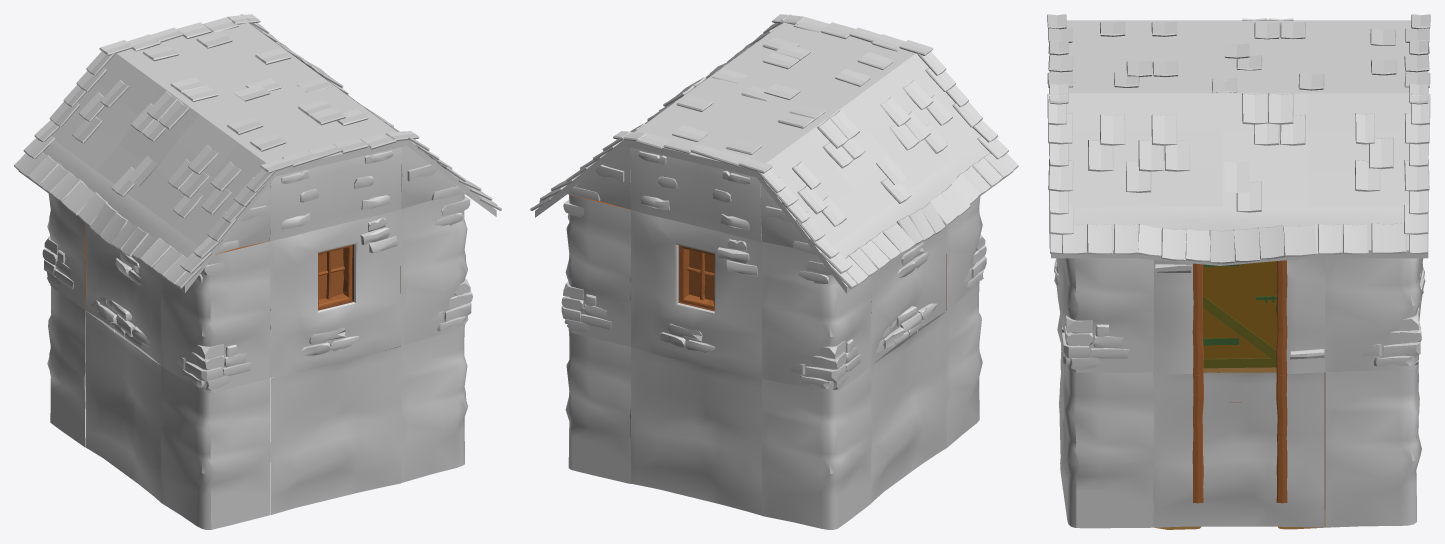
File: Modular_house_5.fbx
The picture shows the model from 3 angles, left to right: view 1: azimuth 30°, elevation 25°; view 2: azimuth 150°, elevation 25°; view 3: azimuth 270°, elevation 25°; orthographic projection. The views are drawn at different scales.
Visible parts, largest first — view 1: roof.055, roof.053, wall.072, wall.085, wall.077, wall.078, wall.086, Roof_long_strip_low.024, wall.081, wall.074, wall.083, wall.080 (+15 smaller); view 2: roof.055, roof.053, wall.082, wall.083, wall.075, wall.076, wall.086, Roof_long_strip_low.024, wall.079, wall.073, wall.080, wall.085 (+15 smaller); view 3: roof.057, roof.053, wall.084, Roof_long_strip_low.026, wall.079, wall.081, wall.073, wall.071, wall.074, Windows_doors.209, bricks.059, bricks.058 (+7 smaller).
Part boxes in pixels (x1,y1,x2,y2): roof.055: [34, 51, 275, 260]; roof.053: [99, 14, 419, 176]; wall.072: [270, 346, 401, 515]; wall.085: [161, 366, 270, 529]; wall.077: [270, 209, 400, 377]; wall.078: [161, 241, 270, 392]; wall.086: [85, 311, 160, 502]; Roof_long_strip_low.024: [14, 136, 211, 292]; wall.081: [401, 327, 467, 482]; wall.074: [401, 193, 467, 345]; wall.083: [47, 286, 114, 447]; wall.080: [85, 223, 160, 365]; roof.055: [756, 51, 997, 260]; roof.053: [613, 14, 932, 177]; wall.082: [631, 347, 761, 515]; wall.083: [762, 367, 871, 529]; wall.075: [630, 210, 761, 378]; wall.076: [762, 242, 871, 392]; wall.086: [871, 311, 946, 502]; Roof_long_strip_low.024: [820, 136, 1018, 293]; wall.079: [565, 331, 630, 483]; wall.073: [565, 194, 630, 346]; wall.080: [871, 225, 946, 365]; wall.085: [918, 284, 982, 447]; roof.057: [1047, 93, 1430, 214]; roof.053: [1047, 14, 1430, 104]; wall.084: [1153, 372, 1324, 527]; Roof_long_strip_low.026: [1049, 204, 1428, 265]; wall.079: [1325, 364, 1421, 527]; wall.081: [1060, 363, 1153, 528]; wall.073: [1325, 258, 1421, 372]; wall.071: [1154, 258, 1325, 374]; wall.074: [1060, 258, 1153, 372]; Windows_doors.209: [1202, 261, 1277, 368]; bricks.059: [1062, 315, 1129, 369]; bricks.058: [1363, 307, 1421, 366].
Bounding box in the file's own units: 495 × 519 × 447.
